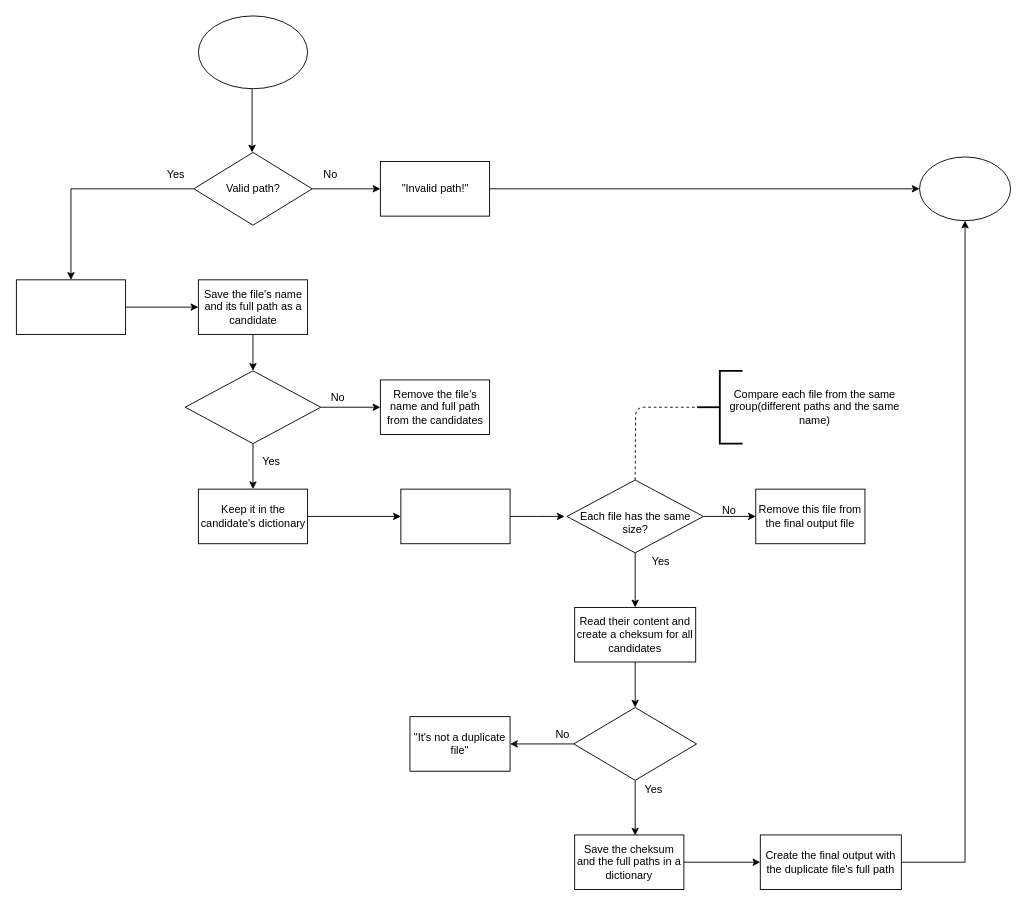
Some shapes in this 1026 by 905 pixel diagram are drawn without their labels. The shapes that lost their labels are listed below. From the top down, each one's centre as x and y in pixels, then its label:
At pixel 252 52: "Require initial search path".
At pixel 965 188: "End programm".
At pixel 70 306: "Start a Top-Down search through directories".
At pixel 252 407: "It has more than one path?".
At pixel 455 516: "Create a text file with the final candidates".
At pixel 635 743: "Their checksum are equal?".
